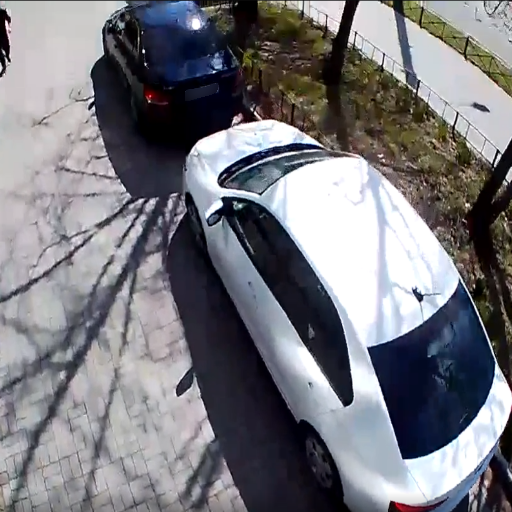Car: (178, 117, 509, 510), (101, 2, 246, 125)
